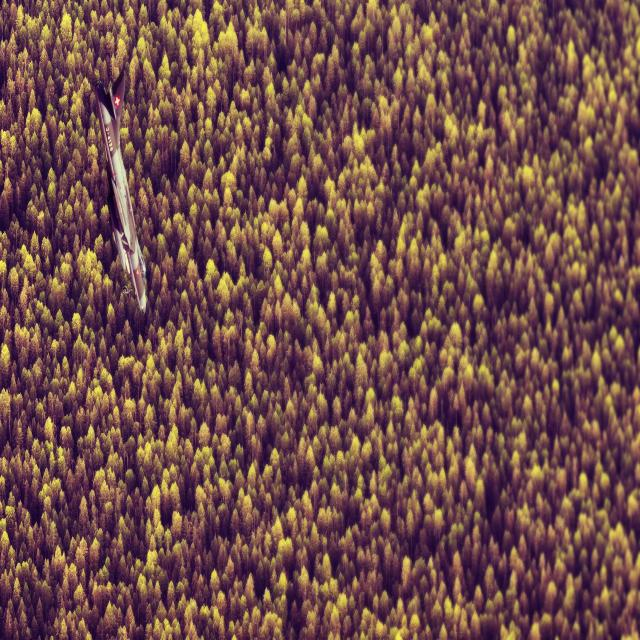airplane: (94, 68, 147, 314)
